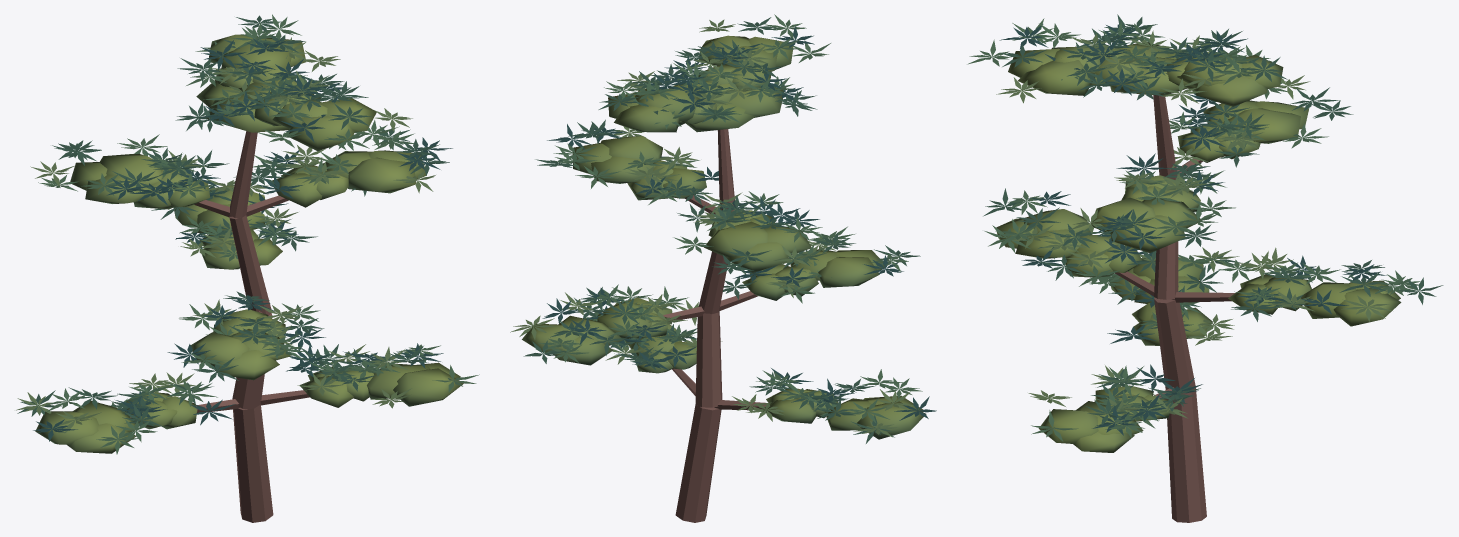
File: ART_GardenPine.lod.glb
3 views of the same model, side by side, from view 1: azimuth 30°, elevation 25°; view 2: azimuth 150°, elevation 25°; view 3: azimuth 270°, elevation 25° (orthographic). The views are drawn at different scales.
Parts seen in each view (by area): view 1: ART_GardenPine; view 2: ART_GardenPine; view 3: ART_GardenPine.
Boxes of the visible parts, x1,y1,x2,y2 form: ART_GardenPine: [16, 14, 479, 522]; ART_GardenPine: [510, 14, 936, 522]; ART_GardenPine: [967, 14, 1443, 522].
Size of the model in its own units: 8.3 by 9.05 by 8.2.
